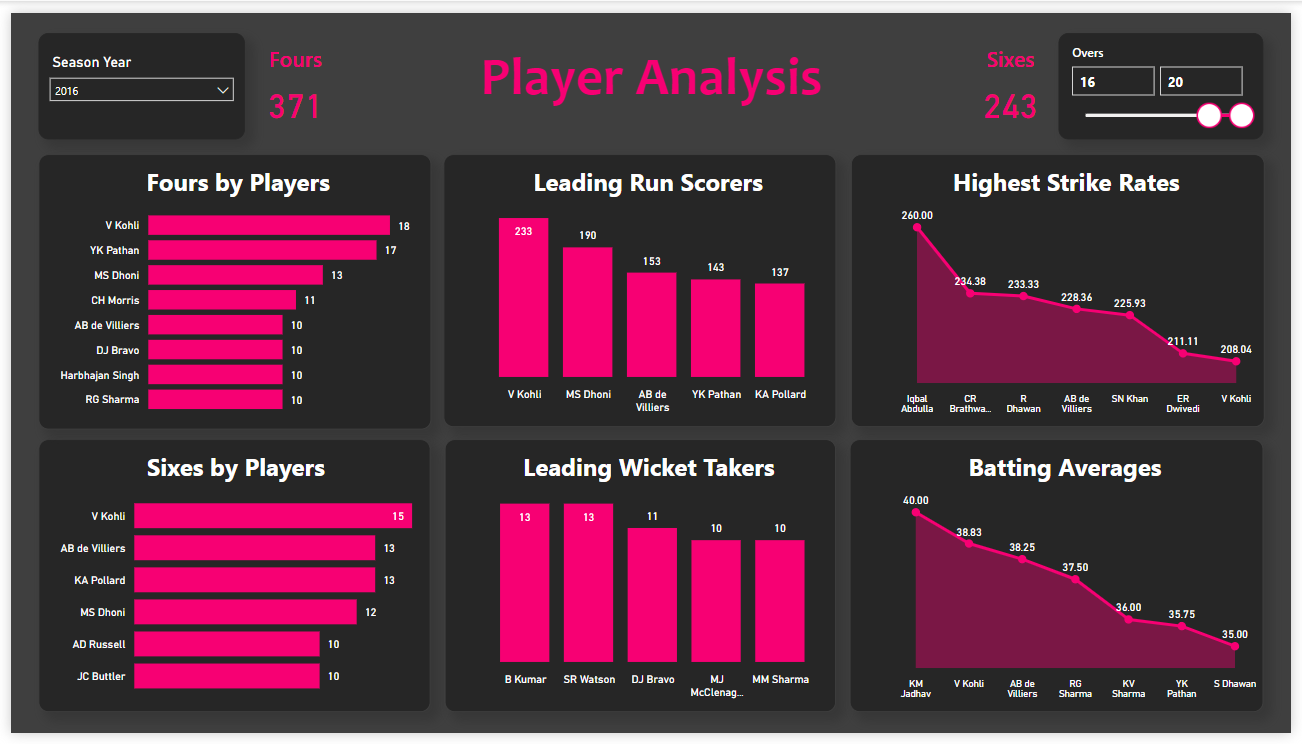

What the dashboard file says about the page in this screenshot:
{"tool":"powerbi","page":{"name":"Player Analysis","canvas":[1280,720],"ordinal":0},"visuals":[{"type":"card","title":"Sixes","fields":{"Values":["Ball_By_Ball.Count Of Sixes"]},"box":[951.6,20.5,96.5,106.1],"z":0},{"type":"card","title":"Fours","fields":{"Values":["Ball_By_Ball.Count Of Fours"]},"box":[233.8,20,101.2,106.2],"z":1000},{"type":"slicer","fields":{"Values":["Match.Season_Year"]},"box":[27.7,20.5,206.2,106.1],"z":2000},{"type":"slicer","fields":{"Values":["Ball_By_Ball.Over_id"]},"box":[1048,20.5,205,106.1],"z":3000},{"type":"columnChart","title":"Leading Run Scorers","fields":{"Y":["Ball_By_Ball.Runs_Scored"],"Category":["Player_match1.Player_Name"]},"box":[432.5,141.2,392.5,272.5],"z":4000},{"type":"stackedAreaChart","title":"Highest Strike Rates","fields":{"Category":["Player_match for Batsman.Player_Name"],"Y":["Ball_By_Ball.Strike Rate"]},"box":[839.4,141.1,413.7,272.6],"z":5000},{"type":"stackedAreaChart","title":"Batting Averages","fields":{"Category":["Player_match for Batsman.Player_Name"],"Y":["Ball_By_Ball.Batting Average"]},"box":[838.2,425.7,413.7,272.6],"z":6000},{"type":"barChart","title":"Sixes by Players","fields":{"Category":["Player_match for Batsman.Player_Name"],"Y":["Ball_By_Ball.Count Of Sixes"]},"box":[27.7,425.7,392,272.6],"z":7000},{"type":"textbox","box":[428.1,20.5,423.3,106.1],"z":8000},{"type":"columnChart","title":"Leading Wicket Takers","fields":{"Category":["Player_match.Player_Name"],"Y":["Ball_By_Ball.Count Of Wickets"]},"box":[433.8,426.2,391.2,272.5],"z":9000},{"type":"barChart","title":"Fours by Players","fields":{"Y":["Ball_By_Ball.Count Of Fours"],"Category":["Player_match for Batsman.Player_Name"]},"box":[27.5,141.2,392.5,275],"z":10000}]}

Visuals, with their boxes in screenshot pixels (x1, y1, x2, y2), scaled from the page's 1280x720 canvas onto the 1302x744 screenshot:
"Sixes" card: [left=968, top=21, right=1066, bottom=131]
"Fours" card: [left=238, top=21, right=341, bottom=130]
slicer - Match.Season_Year: [left=28, top=21, right=238, bottom=131]
slicer - Ball_By_Ball.Over_id: [left=1066, top=21, right=1275, bottom=131]
"Leading Run Scorers" columnChart: [left=440, top=146, right=839, bottom=427]
"Highest Strike Rates" stackedAreaChart: [left=854, top=146, right=1275, bottom=427]
"Batting Averages" stackedAreaChart: [left=853, top=440, right=1273, bottom=722]
"Sixes by Players" barChart: [left=28, top=440, right=427, bottom=722]
textbox: [left=435, top=21, right=866, bottom=131]
"Leading Wicket Takers" columnChart: [left=441, top=440, right=839, bottom=722]
"Fours by Players" barChart: [left=28, top=146, right=427, bottom=430]
